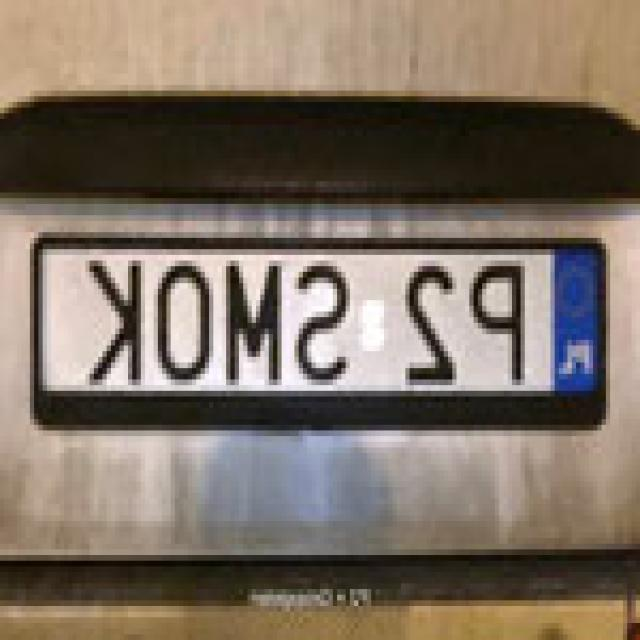pl_license_plate: (47, 243, 602, 379)
